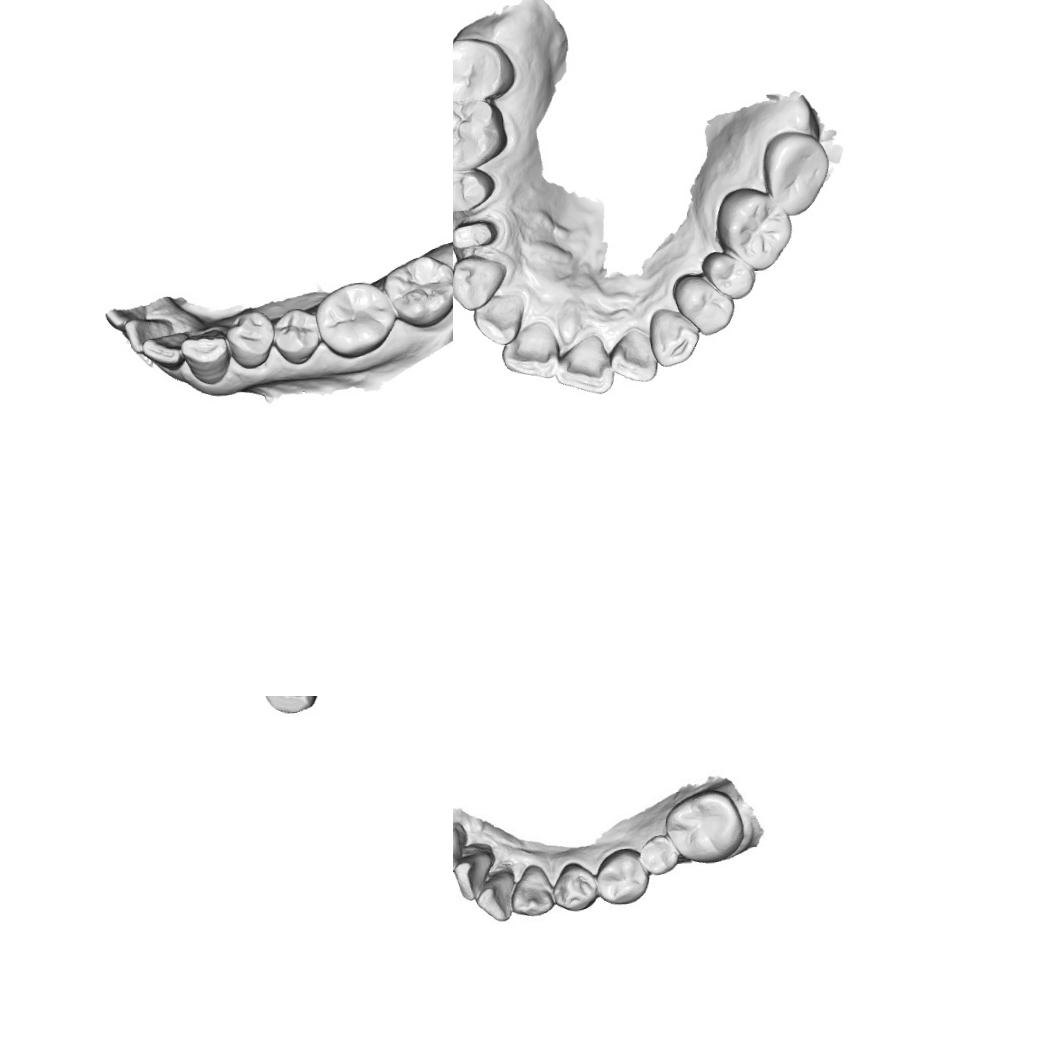canine: (646, 304, 702, 368), (453, 250, 509, 311), (178, 328, 232, 388), (507, 860, 555, 920), (260, 696, 320, 715)
crown: (453, 212, 506, 250)
incisor: (498, 317, 562, 381), (554, 330, 615, 396), (607, 324, 659, 385), (470, 292, 526, 346), (472, 864, 519, 924), (139, 330, 192, 372), (122, 314, 175, 356), (453, 847, 493, 901), (453, 820, 470, 878)
molar: (713, 182, 795, 273), (312, 278, 398, 361), (759, 128, 831, 218), (664, 788, 746, 866), (380, 252, 453, 330), (453, 34, 516, 105), (453, 97, 509, 174), (636, 830, 681, 878)
premolar: (670, 268, 737, 337), (594, 846, 650, 908), (224, 307, 276, 371), (271, 304, 322, 367), (700, 247, 757, 302), (550, 859, 601, 914), (453, 164, 496, 215)
